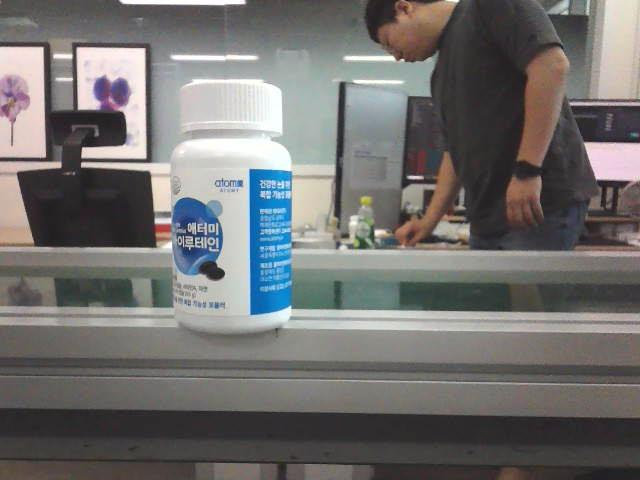labeled: (166, 72, 295, 337)
